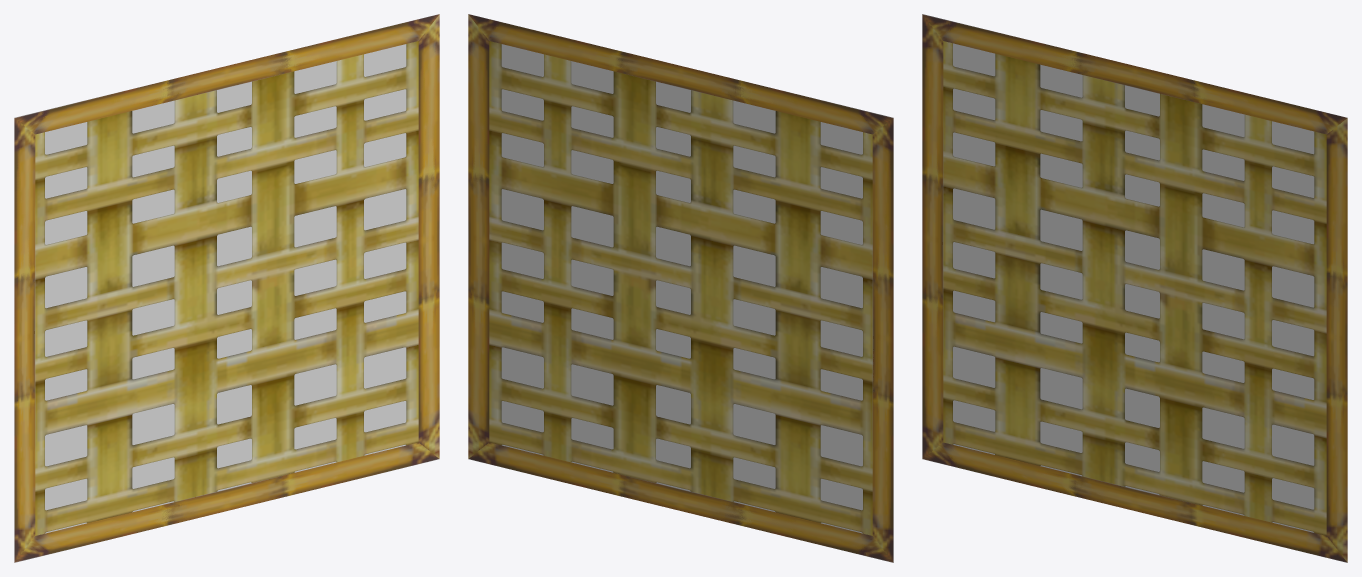
File: bamboofence_revolve_inner_bake.dae
The picture shows the model from 3 angles, left to right: view 1: azimuth 30°, elevation 25°; view 2: azimuth 150°, elevation 25°; view 3: azimuth 330°, elevation 25°; orthographic projection.
Parts seen in each view (by area): view 1: m1, m1_VC, m0; view 2: m1, m1_VC, m0; view 3: m1, m1_VC, m0.
Part boxes in pixels (bbox=[...]): m1: bbox=[35, 41, 418, 535]; m1_VC: bbox=[45, 44, 406, 533]; m0: bbox=[14, 14, 439, 562]; m1: bbox=[489, 41, 872, 535]; m1_VC: bbox=[501, 44, 862, 533]; m0: bbox=[468, 14, 893, 562]; m1: bbox=[943, 41, 1326, 535]; m1_VC: bbox=[953, 43, 1314, 532]; m0: bbox=[922, 14, 1347, 562].
Bounding box in the file's own units: 400 × 400 × 0.
Materials: 3 (3 with a texture image).
